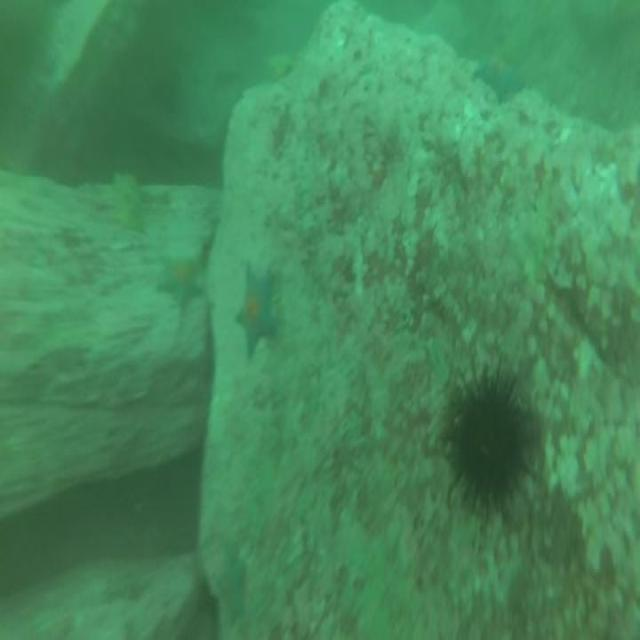echinus: (446, 358, 532, 522)
holothurian: (108, 169, 148, 243)
starfish: (231, 262, 283, 359), (469, 46, 527, 110), (155, 248, 205, 322), (212, 539, 250, 627)
